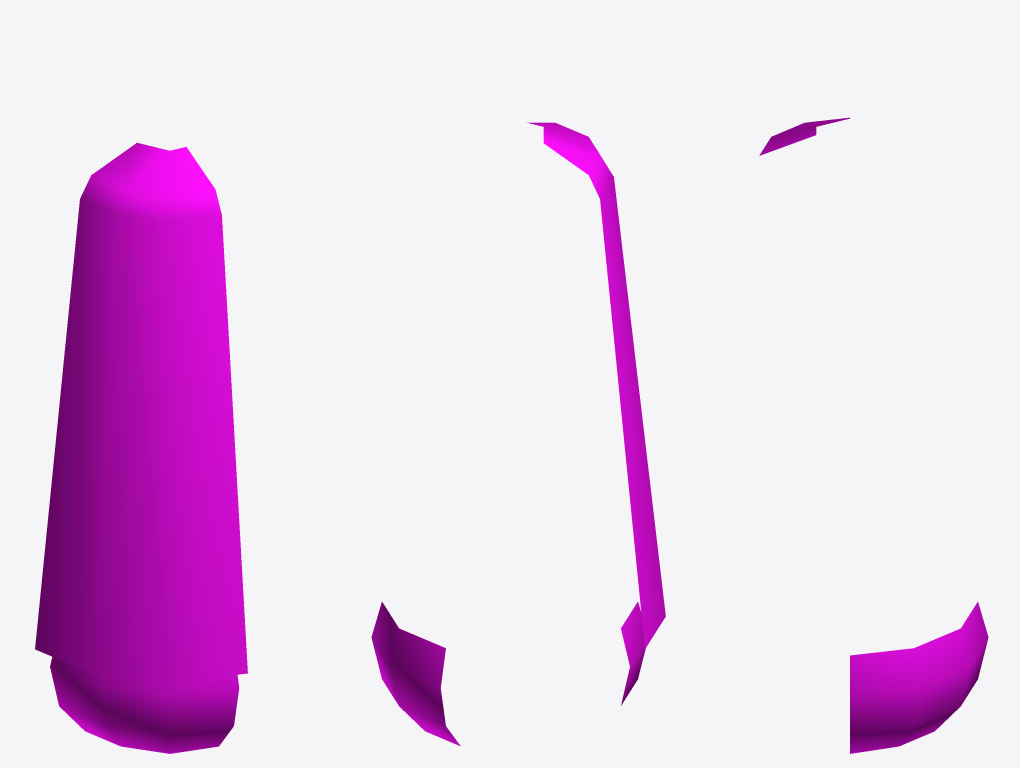
The model's file is ava_bodyA0__ava_bodyA0.glb.
3 views of the same model, side by side, from view 1: azimuth 30°, elevation 25°; view 2: azimuth 150°, elevation 25°; view 3: azimuth 270°, elevation 25° (orthographic).
Parts seen in each view (by area): view 1: polygon1, polygon0; view 2: polygon1, polygon0; view 3: polygon0, polygon1.
Part boxes in pixels (x1,y1,x2,y2): polygon1: [35, 142, 247, 682]; polygon0: [50, 657, 239, 753]; polygon1: [527, 122, 665, 648]; polygon0: [371, 602, 645, 745]; polygon0: [850, 602, 988, 753]; polygon1: [759, 117, 849, 155].
Size of the model in its own units: 3.38 by 8.44 by 3.38.
1 material, 1 textured.
